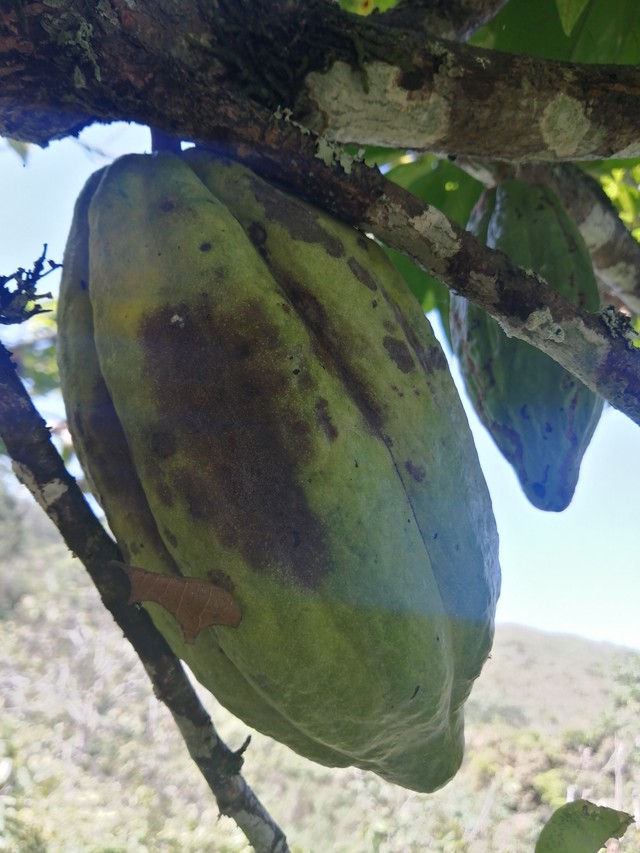moniliophthora perniciosa: (35, 116, 516, 801)
